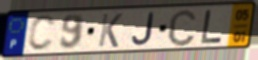9: (58, 13, 84, 51)
C: (166, 7, 199, 48), (26, 14, 58, 53)
J: (130, 11, 156, 47)
K: (96, 12, 124, 49)
L: (199, 9, 225, 45)
